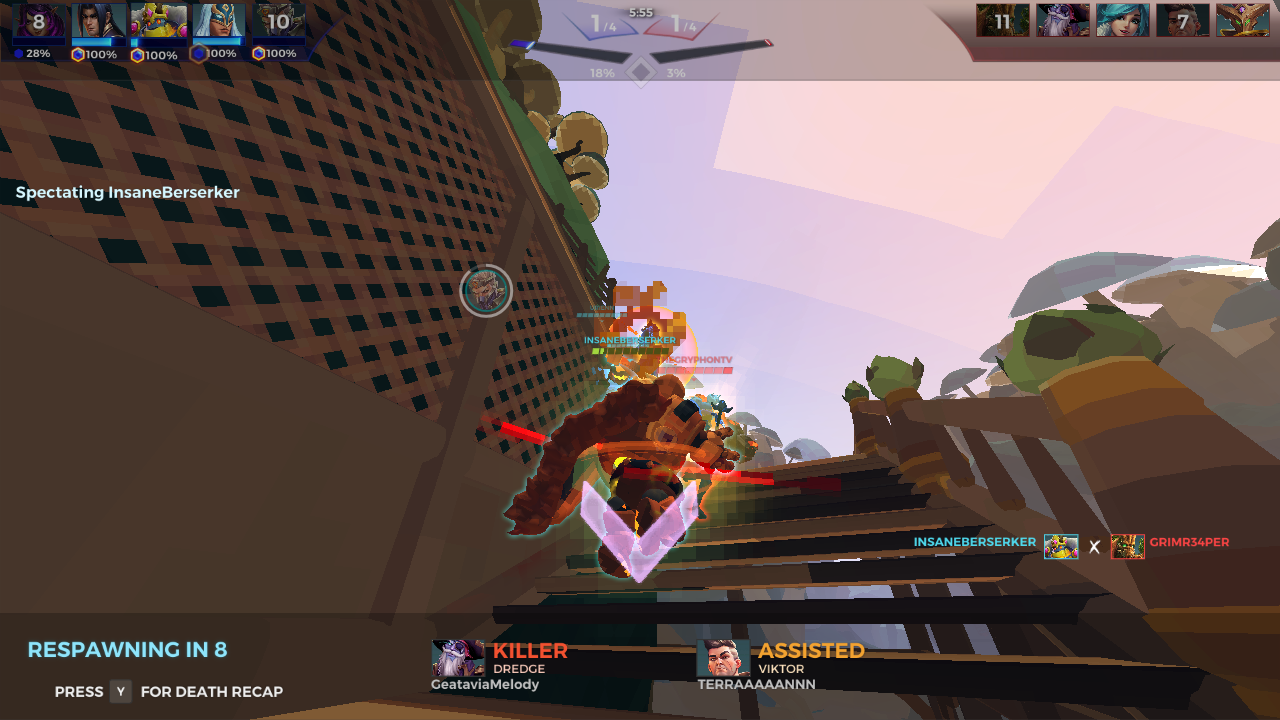model: (612, 394, 731, 529)
